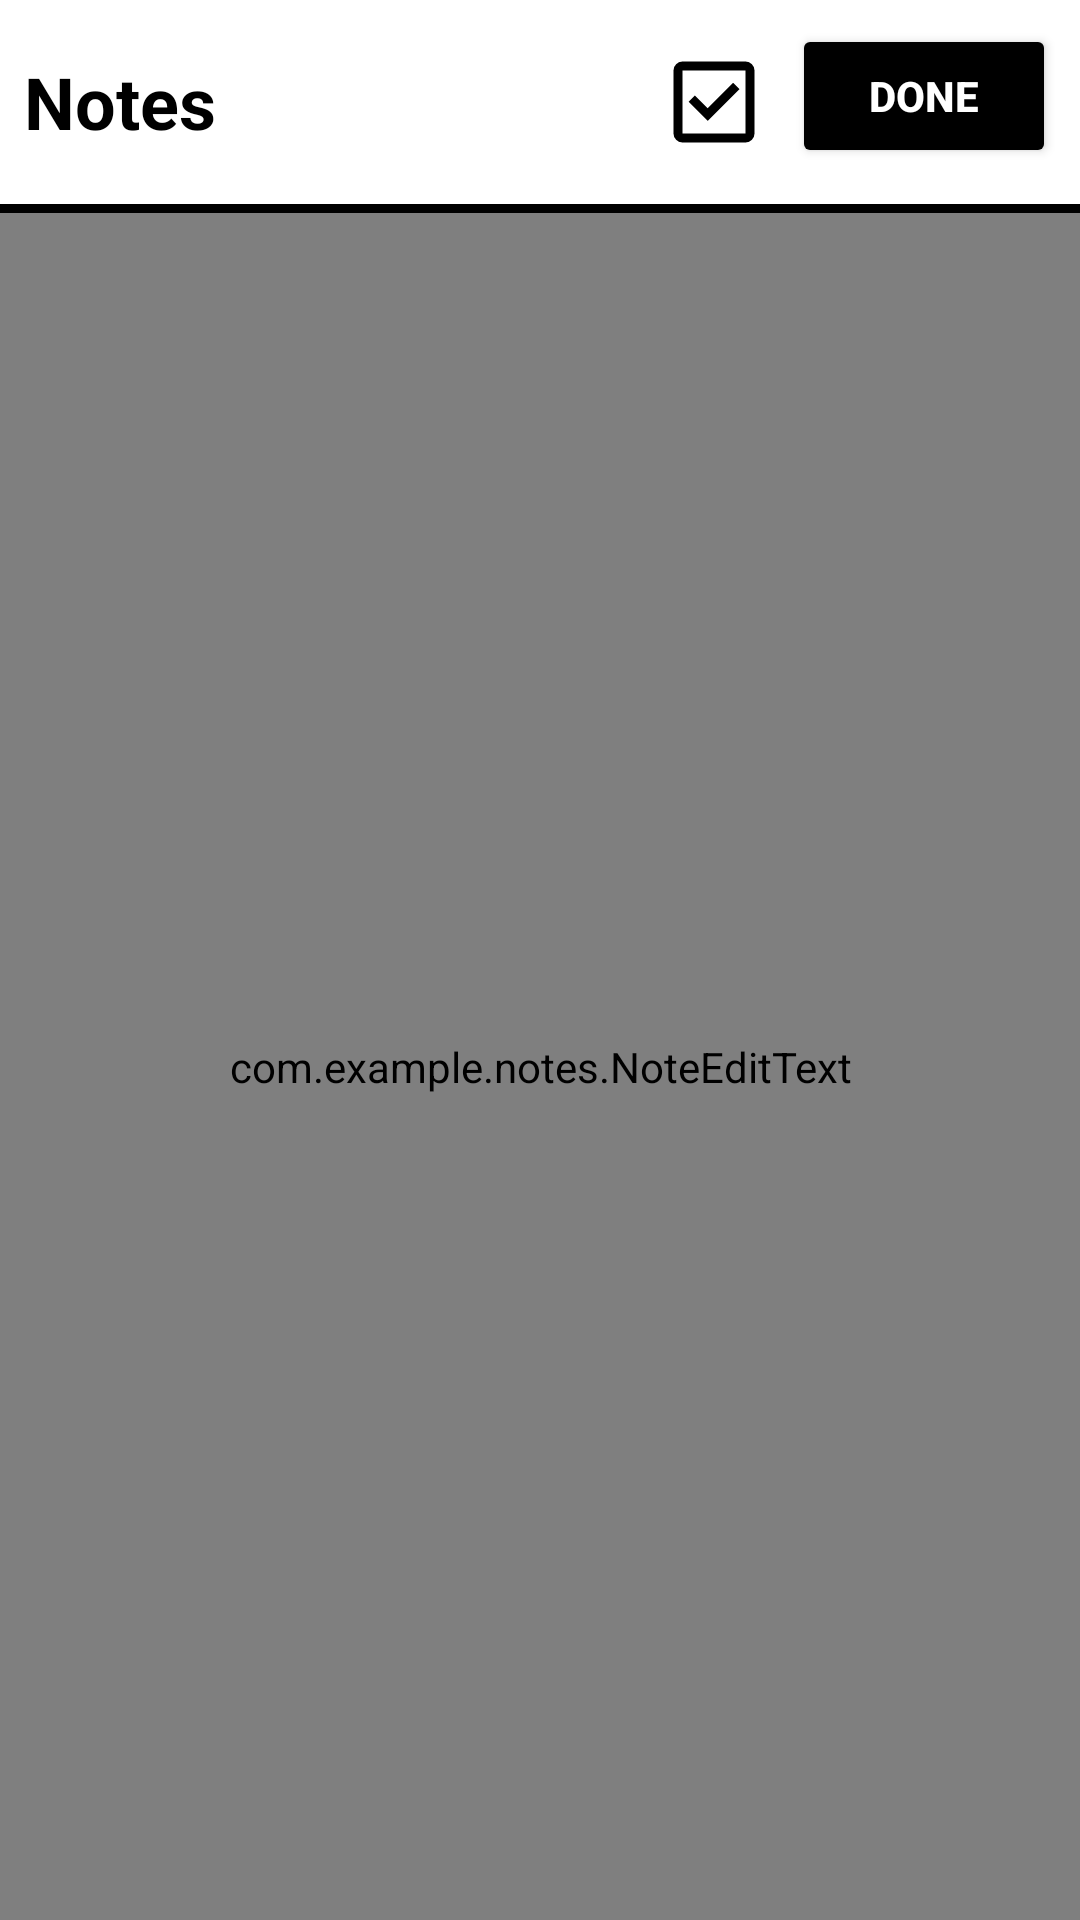

Named icons in this screenshot (1080 x 1920) and their centers, (x=x, y=y):
Add Checkbox: (x=714, y=102)
